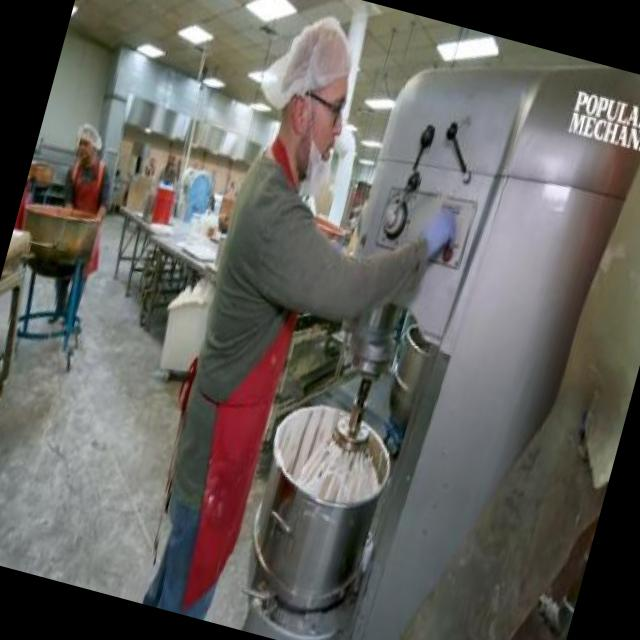hairnet: (270, 12, 360, 87), (73, 124, 108, 152)
